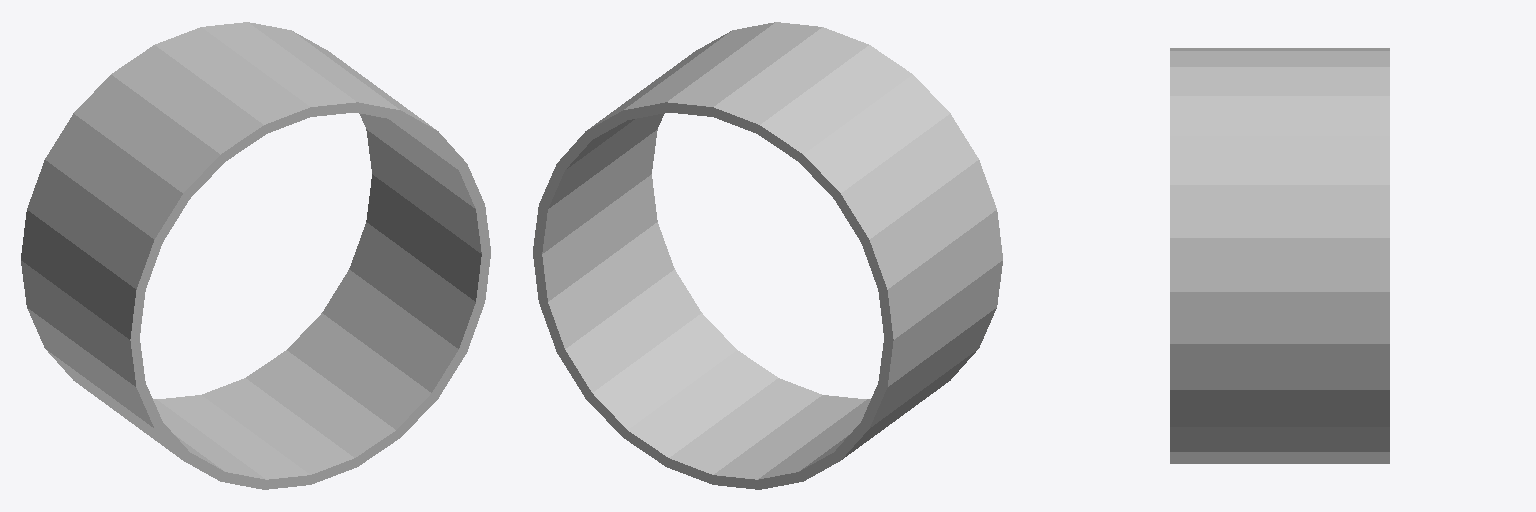
Rendered from cylinder(side).obj.
3 renders of one model, left to right at view 1: azimuth 30°, elevation 25°; view 2: azimuth 150°, elevation 25°; view 3: azimuth 270°, elevation 25°, orthographic.
Parts seen in each view (by area): view 1: Tube3; view 2: Tube3; view 3: Tube3.
Boxes of the visible parts, x1,y1,x2,y2 form: Tube3: [21, 22, 490, 489]; Tube3: [533, 22, 1002, 489]; Tube3: [1170, 48, 1389, 463].
Bounding box in the file's own units: 1.9 × 1.9 × 1.